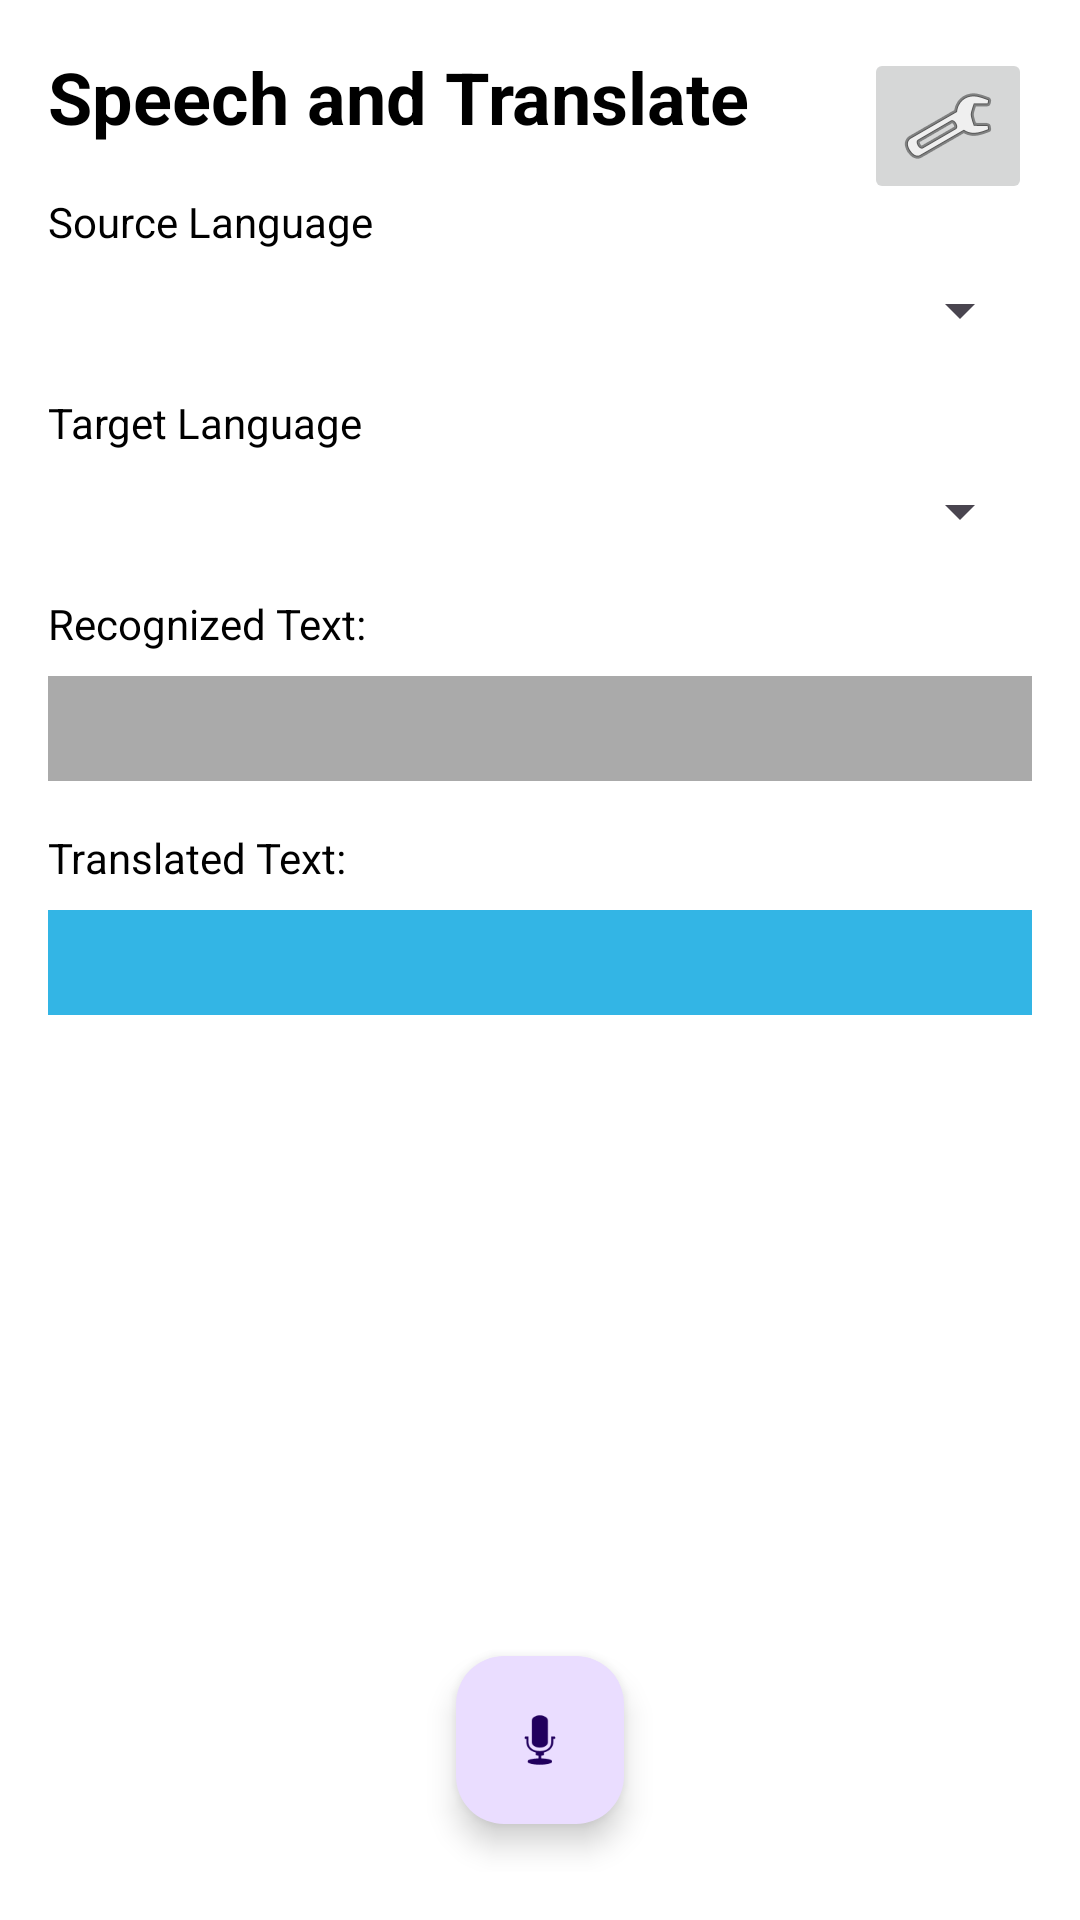

Icon bounding boxes for this 1080 x 1920 phone screenshot, format (x1, y1, x2, y2):
manage: (876, 66, 1020, 186)
speak now: (456, 1656, 624, 1824)
